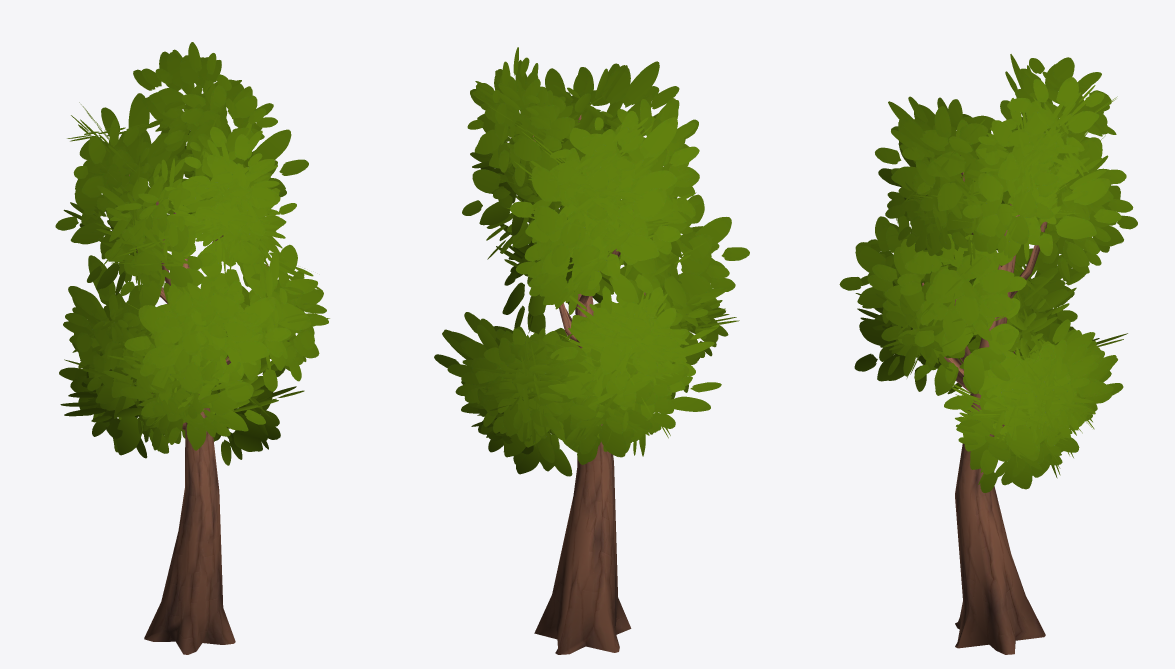
Rendered from tree_free_model_lo.glb.
3 renders of one model, left to right at view 1: azimuth 30°, elevation 25°; view 2: azimuth 150°, elevation 25°; view 3: azimuth 270°, elevation 25°, orthographic. The views are drawn at different scales.
Visible parts, largest first — view 1: CommonTree_3; view 2: CommonTree_3; view 3: CommonTree_3.
Boxes of the visible parts, x1,y1,x2,y2 form: CommonTree_3: (55, 42, 329, 654); CommonTree_3: (434, 47, 749, 654); CommonTree_3: (839, 54, 1137, 654).
Size of the model in its own units: 5.24 by 9.99 by 5.15.
Materials: 2 (2 with a texture image).
